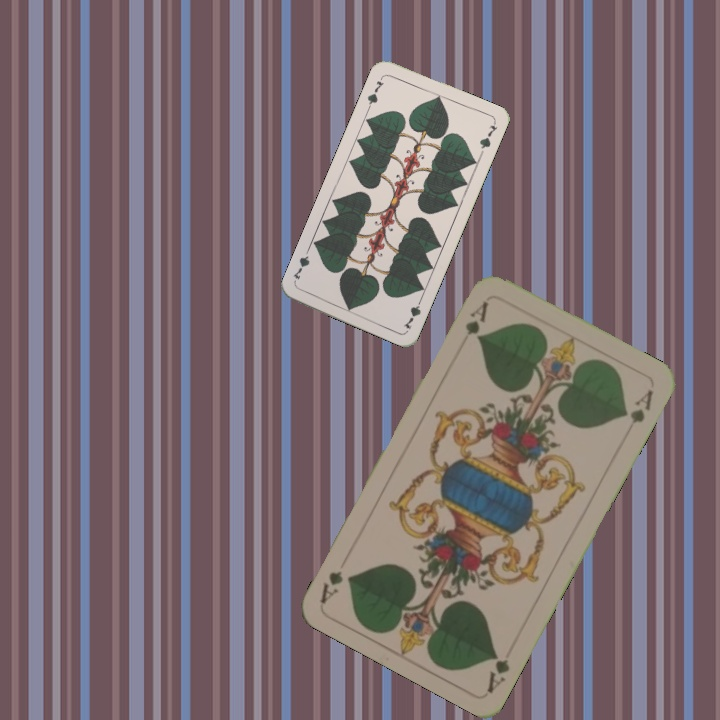G7: (399, 293, 425, 332), (363, 72, 386, 111)
GA: (483, 649, 513, 695), (461, 296, 491, 342)
